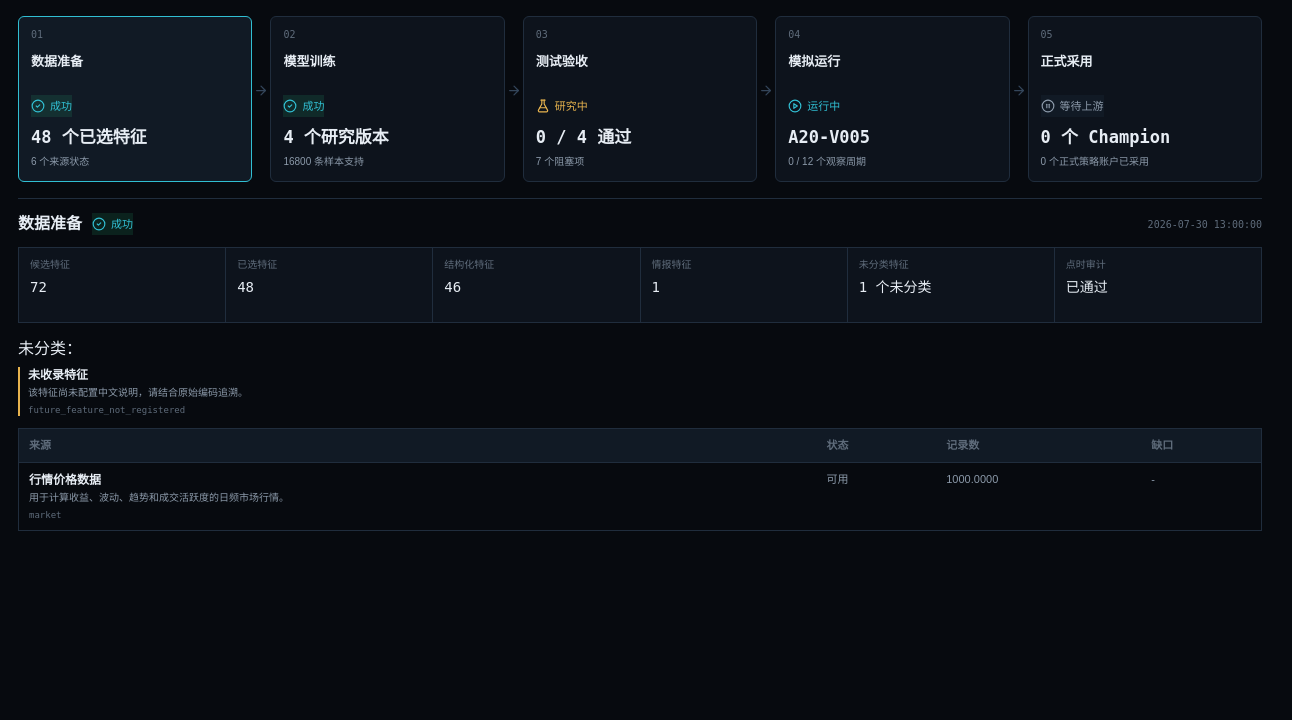
ModelResearchPage › shows formal rules and candidate models in one historical window
Expected: the text "0 / 4 通过" is shown, x1=536 y1=127 x2=631 y2=147
Click the button "03 测试验收 研究中 0 / 4 通过 7 个阻塞项". click: point(640, 99)
box: x1=523 y1=16 x2=757 y2=182
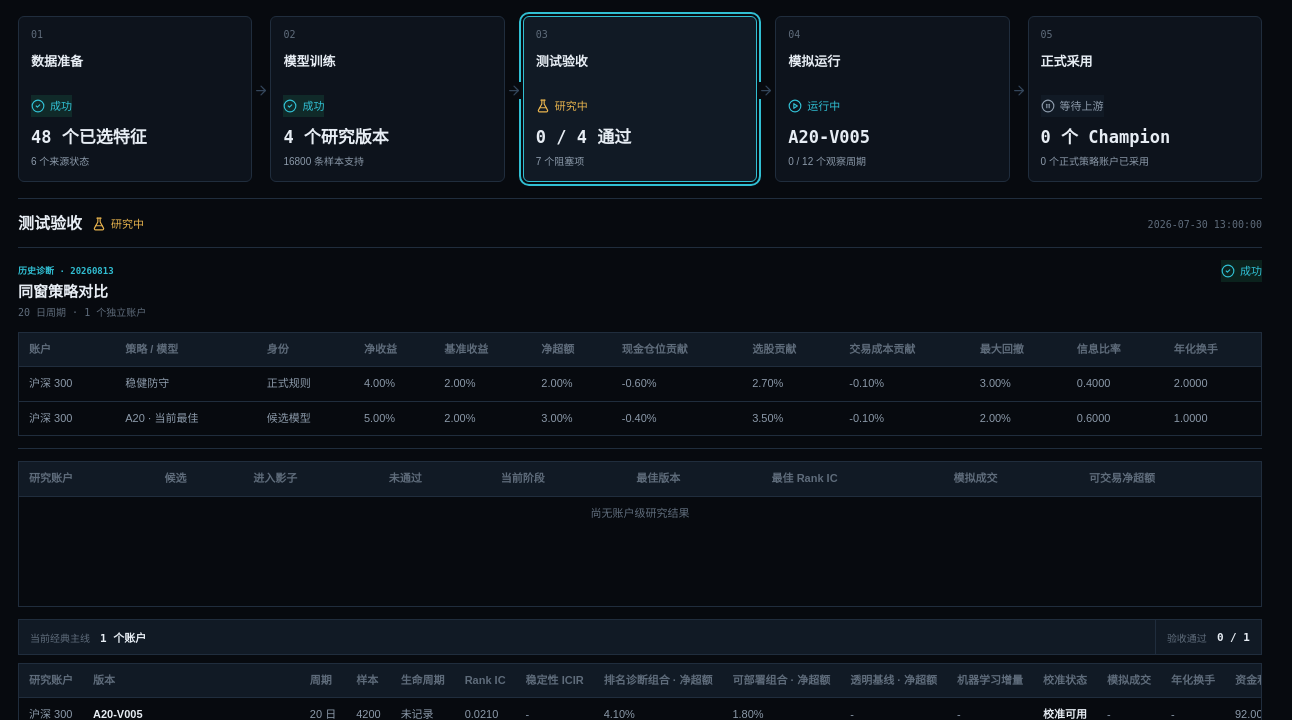
Result: the text "稳健防守" is shown at x1=115 y1=367 x2=257 y2=401
Result: the text "A20 · 当前最佳" is shown at x1=115 y1=401 x2=257 y2=435
Result: the text "正式规则" is shown at x1=257 y1=367 x2=354 y2=401
